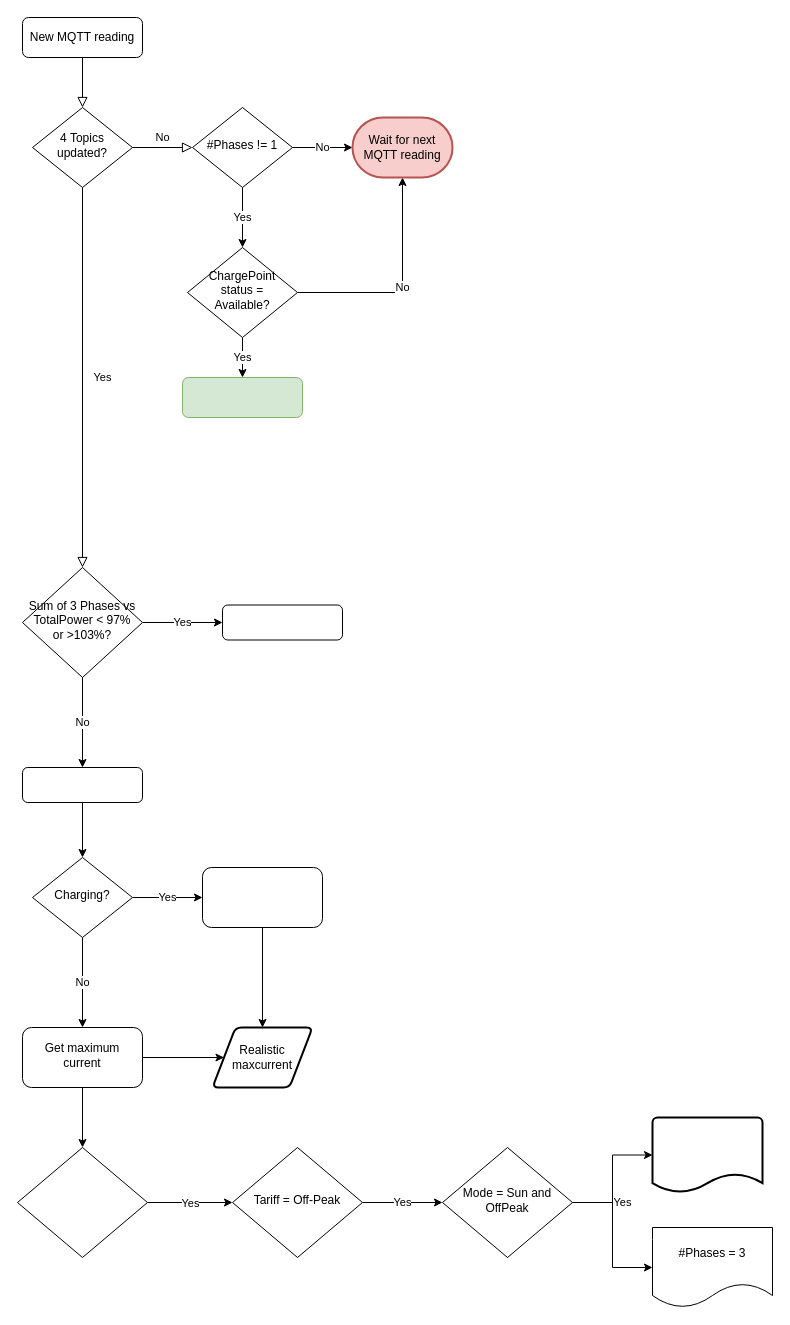
The diagram is 790 pixels wide and 1325 high, and some of its shapes have lost their labels. Here are the shapes that lost their labels. From the top down, the centre of each, then its label:
the point at 242,397: Set #Phases to 1
the point at 282,622: Use total power
the point at 82,784: Use Sum of 3 Phases
the point at 262,897: Get maximum current - current chargingrate
the point at 707,1154: Current = Realistic maxcurrent
the point at 82,1202: Mode = SunOnly or sunAndOffPeak?
